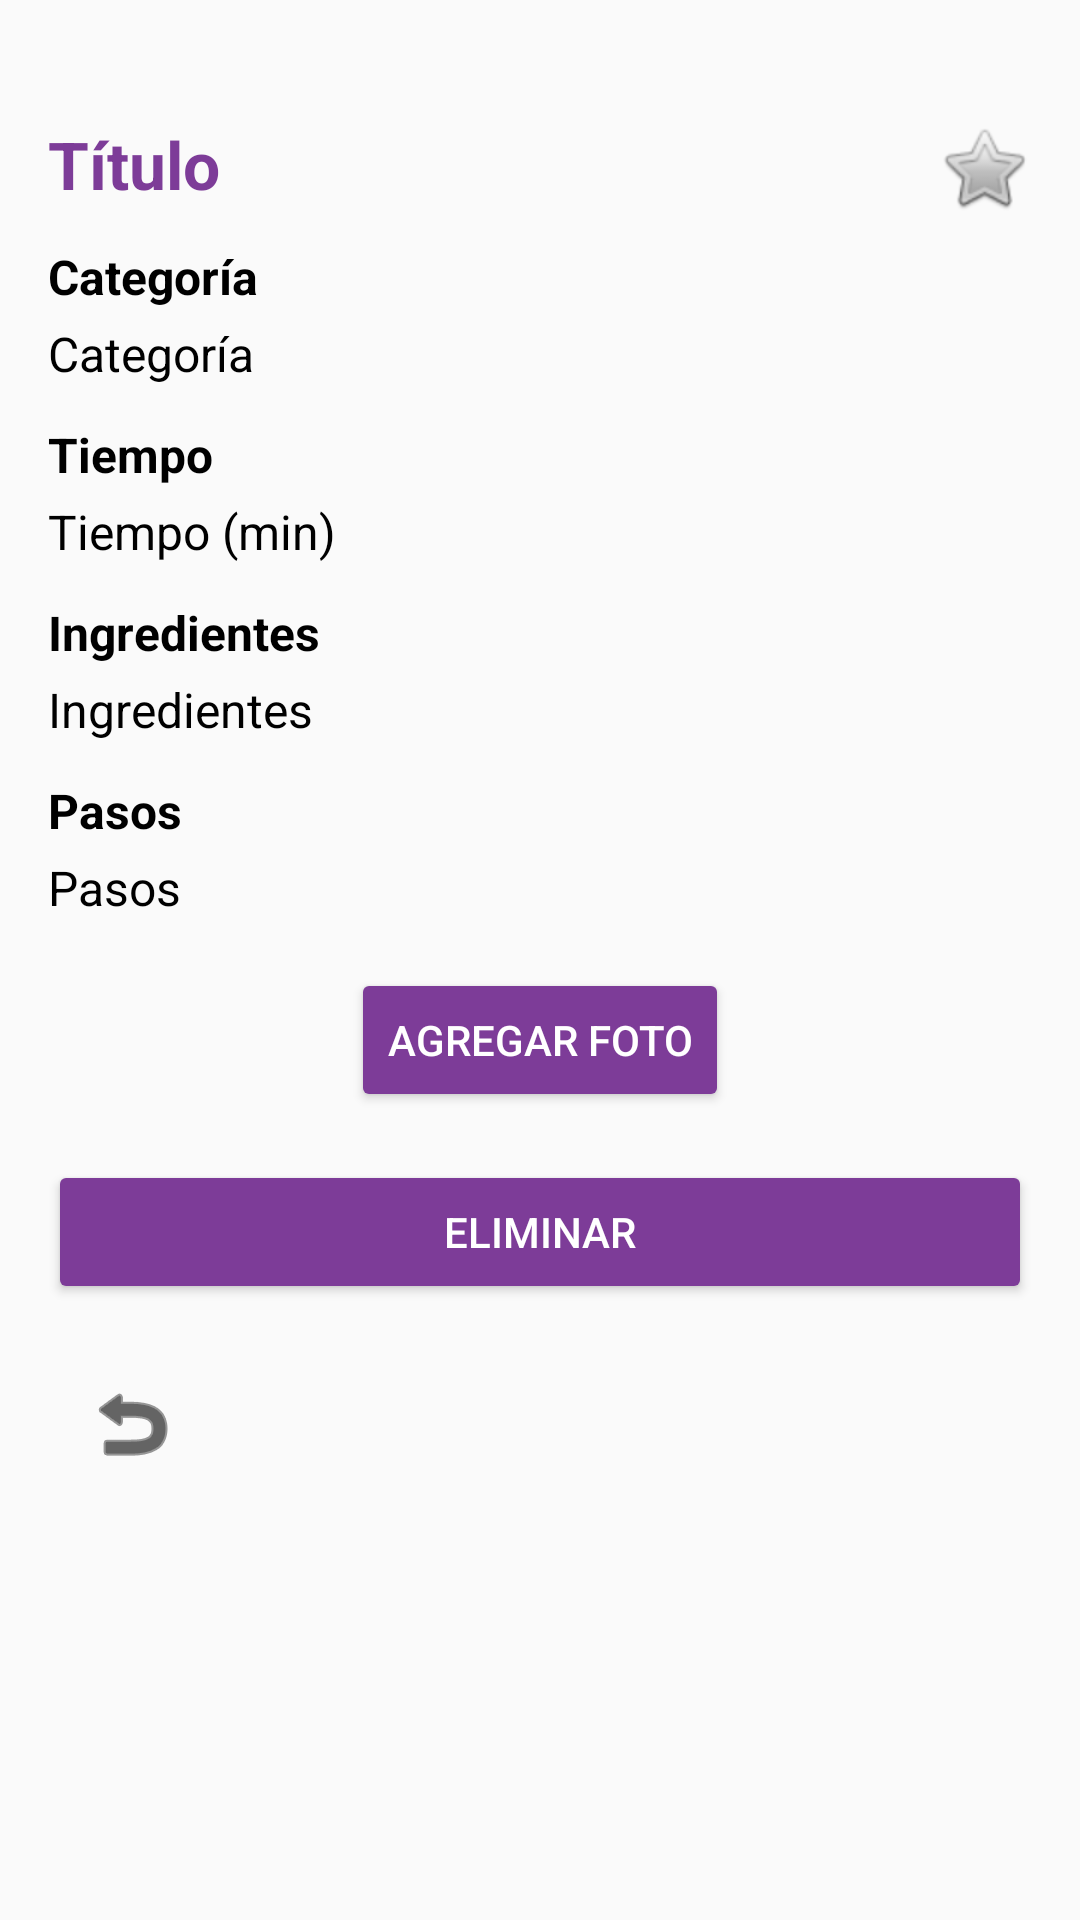

Point at icon controls on the screen. Image size 1080px×1920px, points as point (x, y).
favorito: point (985, 169)
Volver al inicio: point (133, 1424)
